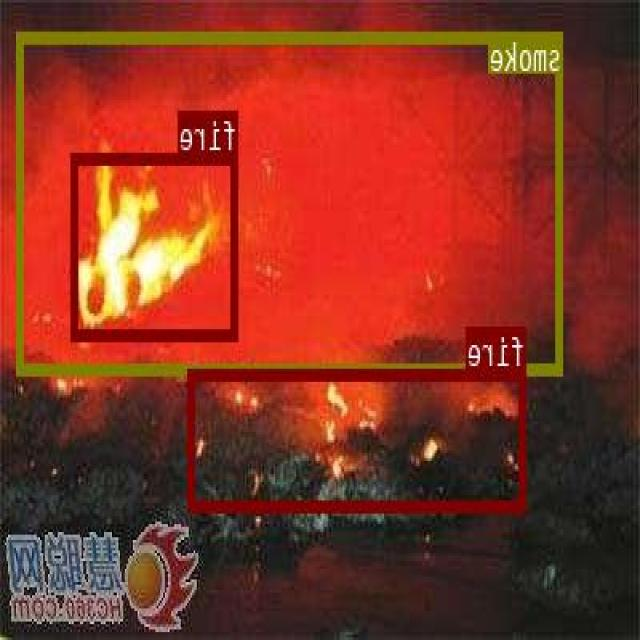fire: (189, 366, 526, 509), (72, 153, 240, 338)
smoke: (18, 30, 564, 374)
